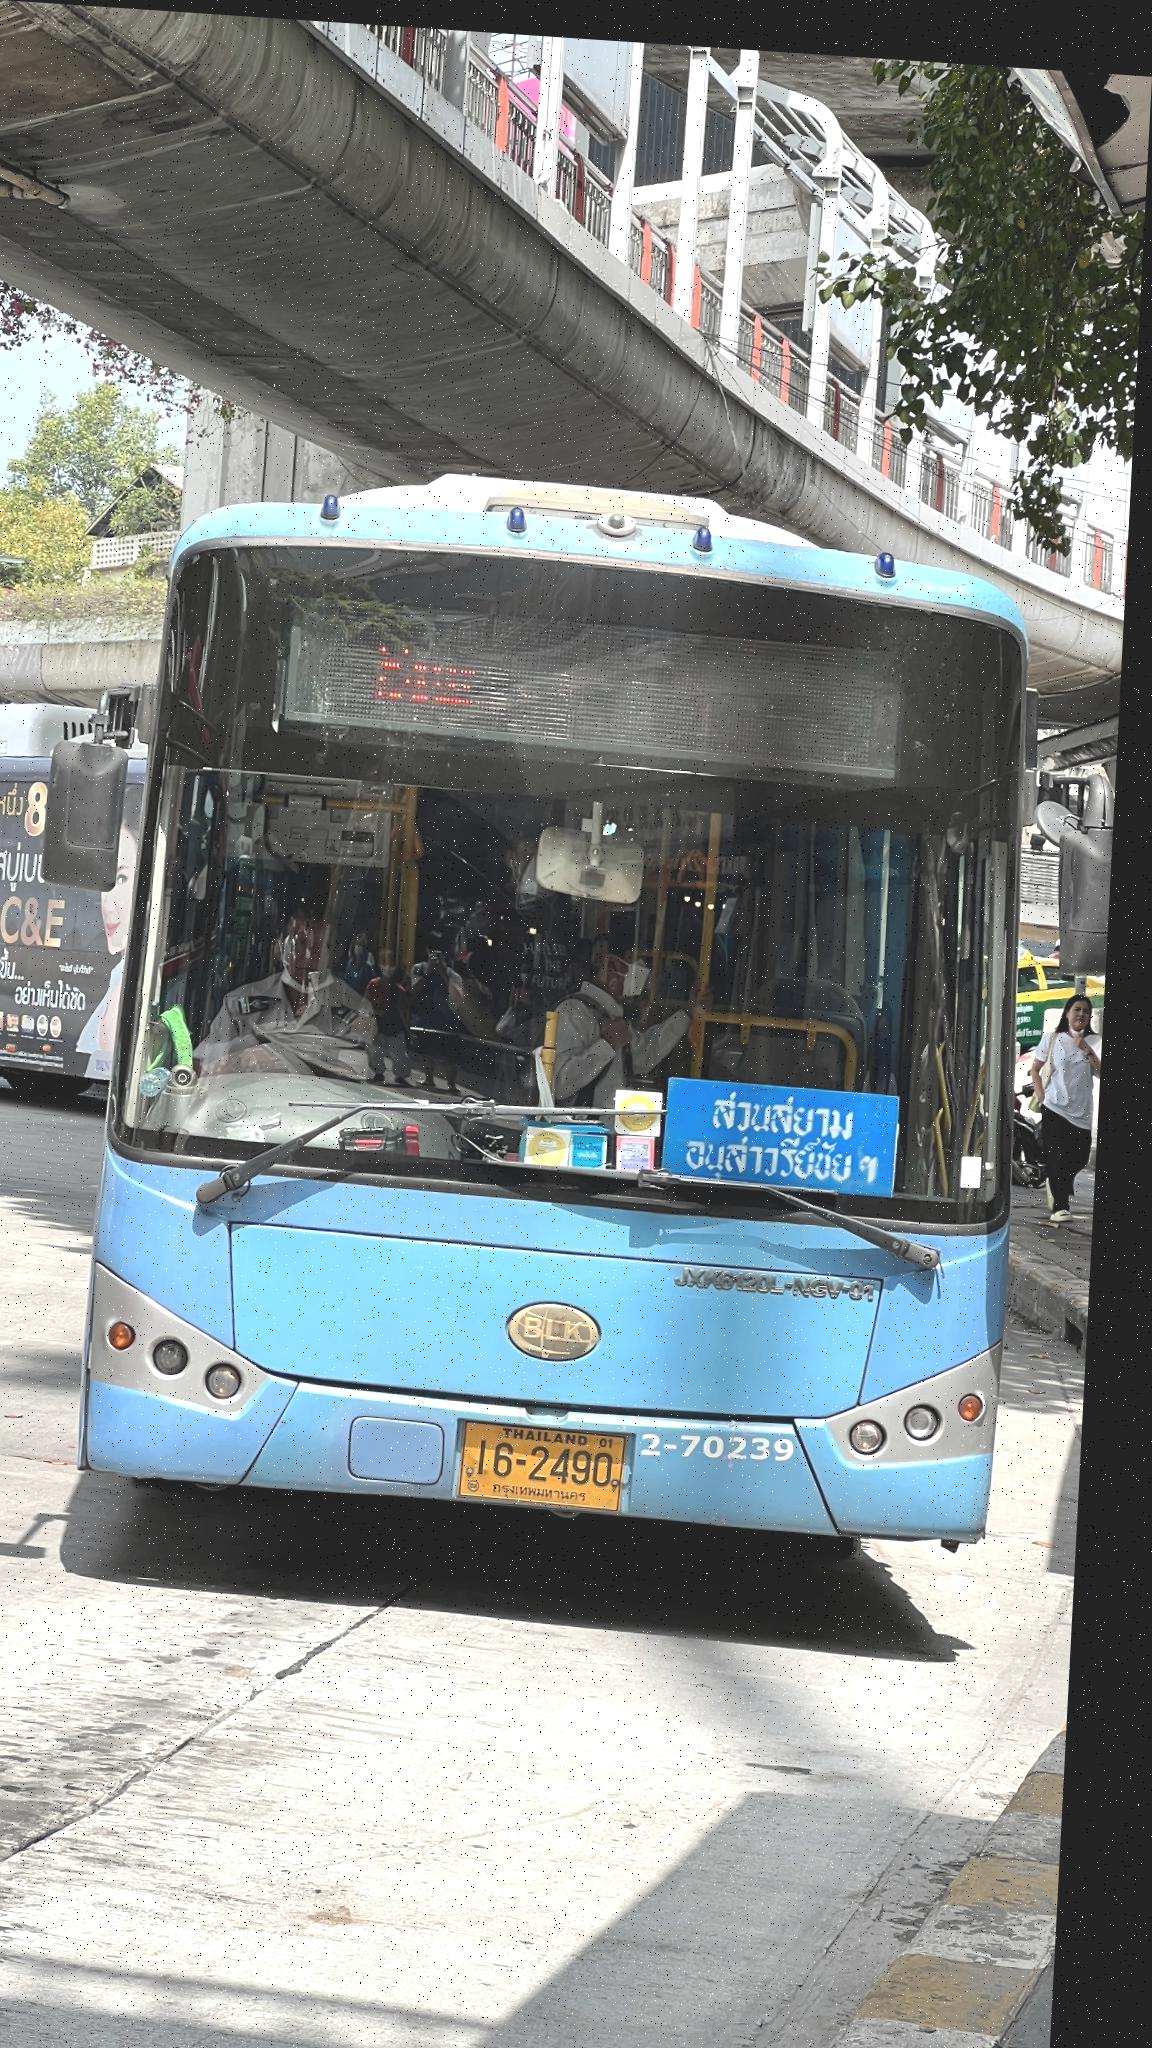BMTA-bus: (91, 475, 1038, 1544)
Bus Line Number: (729, 630, 903, 757)
Bus Side Number: (653, 1400, 824, 1460)
Destination Sign: (677, 1062, 914, 1194)
